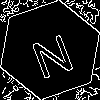N: (25, 25, 77, 80)
